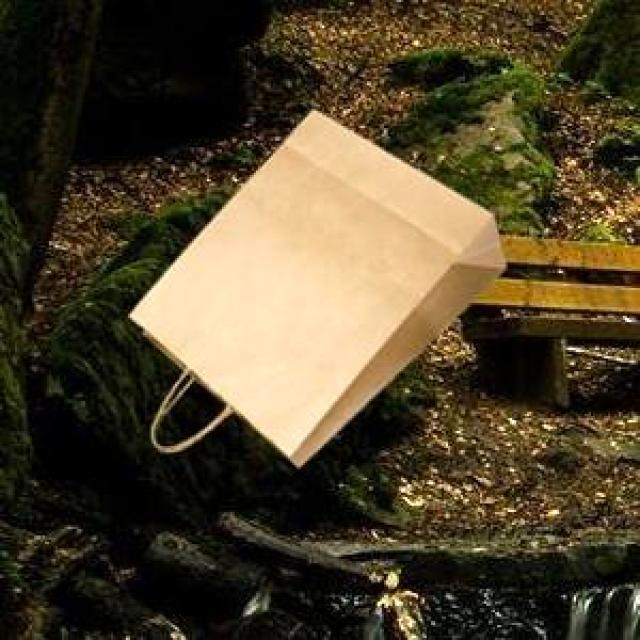Paper_Bag: (127, 108, 502, 464)
